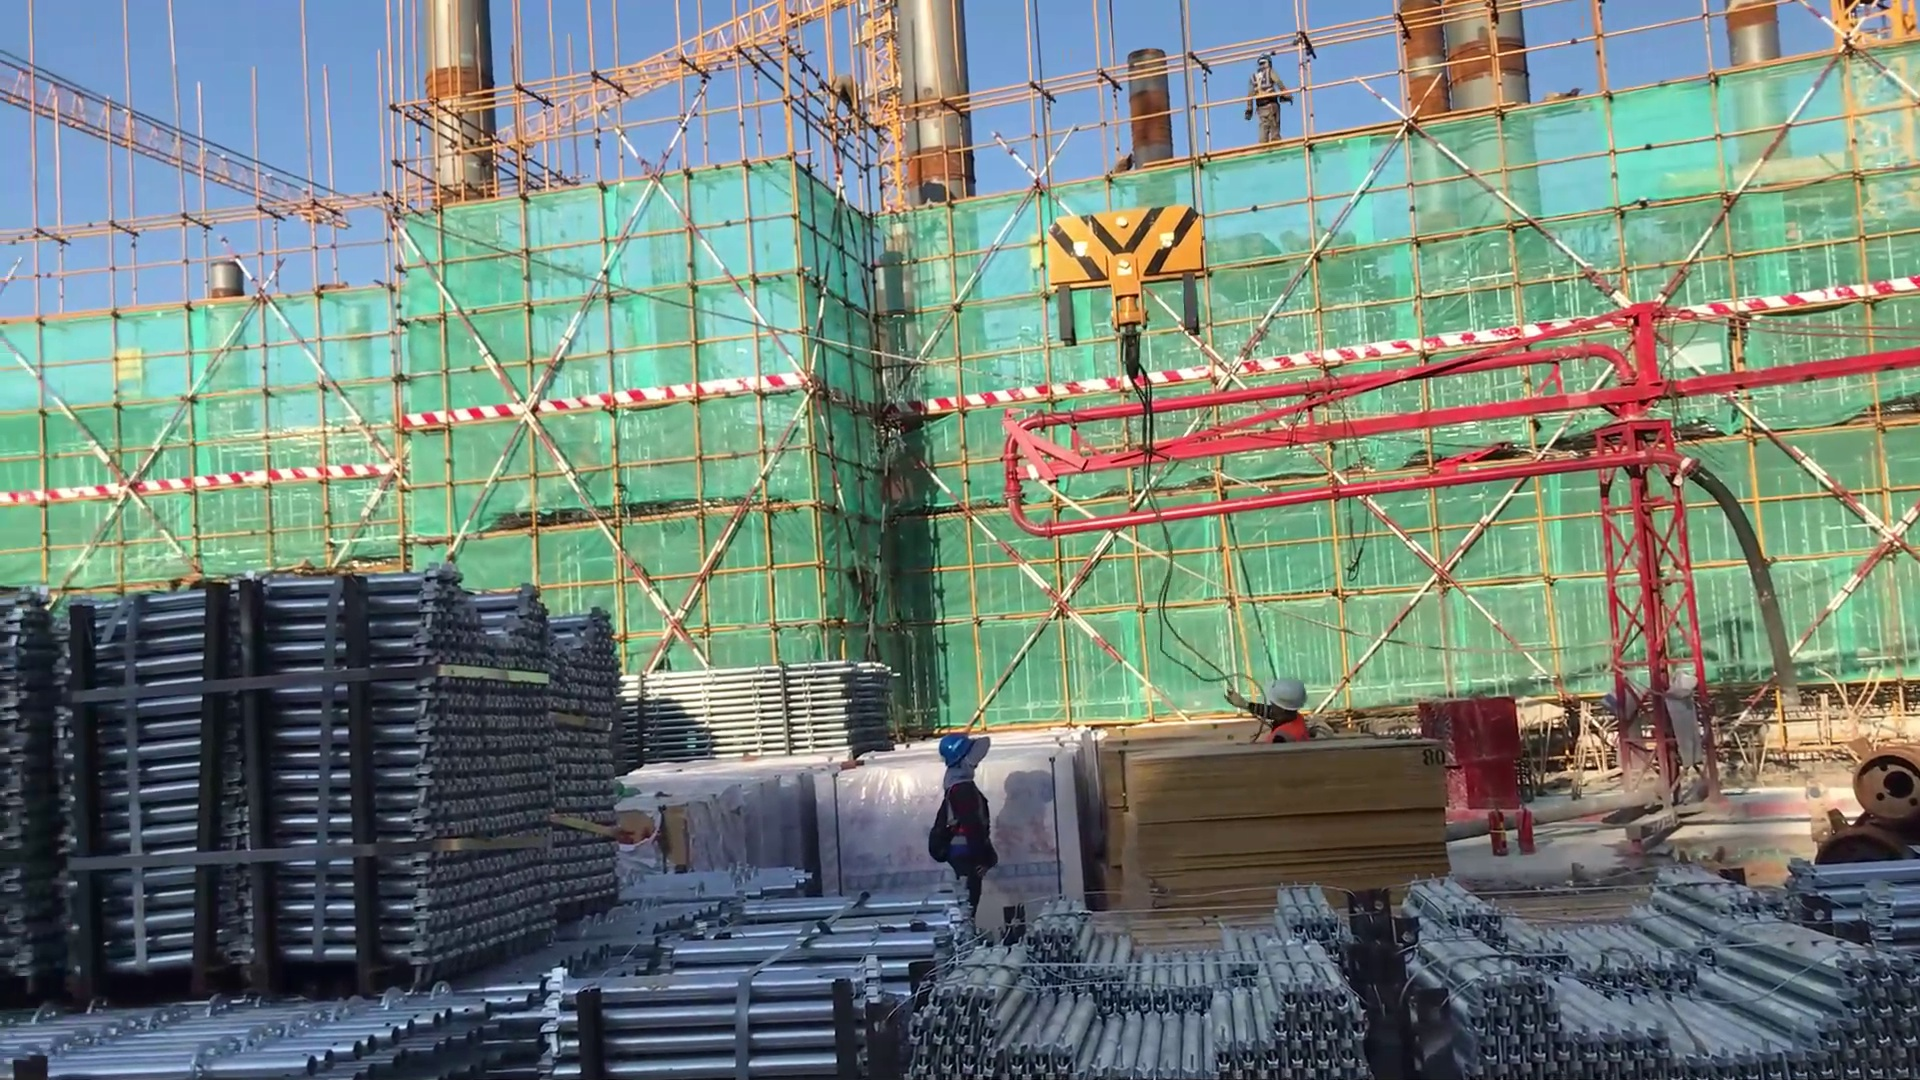board: (1090, 727, 1458, 916)
helmet: (1262, 675, 1308, 718), (933, 731, 981, 769), (1256, 48, 1276, 72)
hook: (1026, 194, 1243, 426)
person: (919, 719, 1004, 932), (1226, 676, 1322, 764), (1247, 42, 1289, 163)
scaffold: (70, 567, 608, 992), (1415, 869, 1920, 1065), (908, 885, 1383, 1080), (605, 862, 962, 1080), (1, 944, 568, 1076), (1, 591, 61, 977)
vest: (936, 773, 997, 876), (1268, 714, 1312, 754), (1248, 69, 1285, 110)
